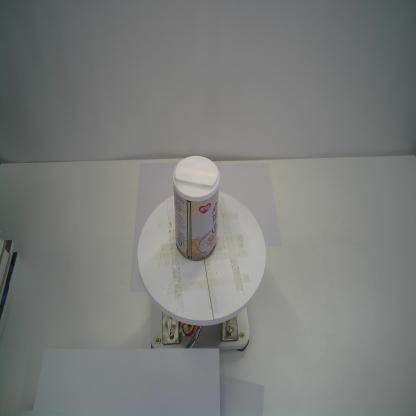Canned Food: (172, 156, 220, 262)
